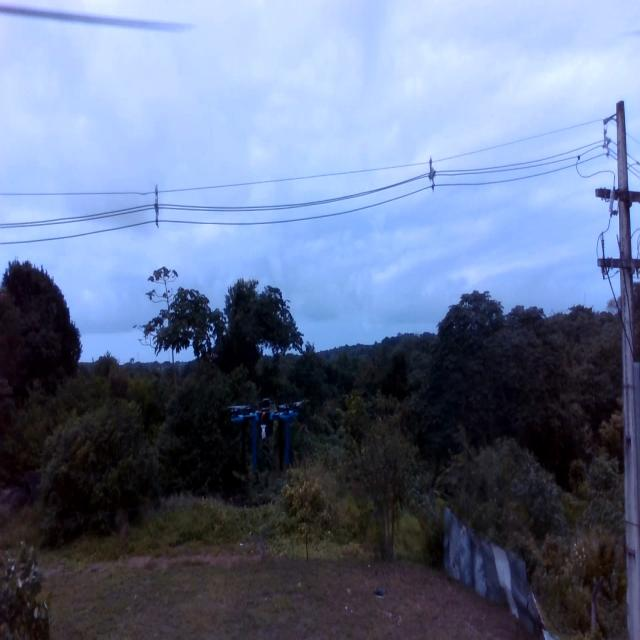-uav-: (211, 378, 326, 483)
